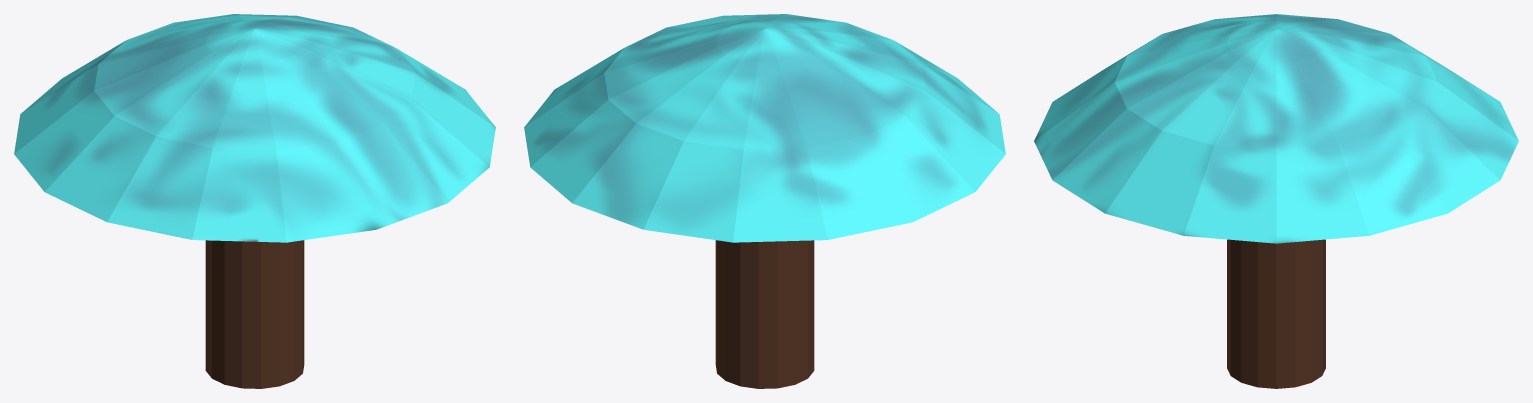
Rendered from mushroom.fbx.
The picture shows the model from 3 angles, left to right: view 1: azimuth 30°, elevation 25°; view 2: azimuth 150°, elevation 25°; view 3: azimuth 270°, elevation 25°; orthographic projection.
Visible parts, largest first — view 1: Circle.006; view 2: Circle.006; view 3: Circle.006.
Boxes of the visible parts, x1,y1,x2,y2 form: Circle.006: (14, 14, 495, 388); Circle.006: (524, 14, 1005, 388); Circle.006: (1034, 14, 1518, 388).
Size of the model in its own units: 166 by 128 by 166.
